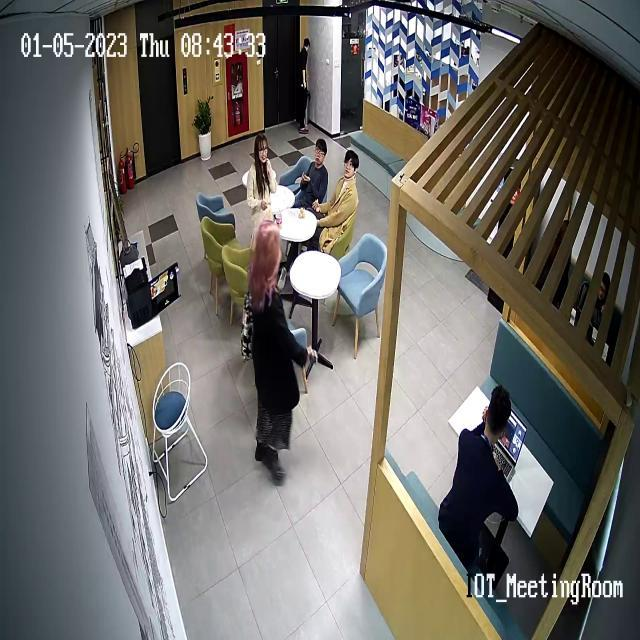person: (438, 385, 519, 598), (249, 221, 314, 482), (312, 148, 360, 256), (576, 260, 618, 347), (244, 132, 278, 227), (295, 138, 328, 212), (299, 37, 311, 132)
